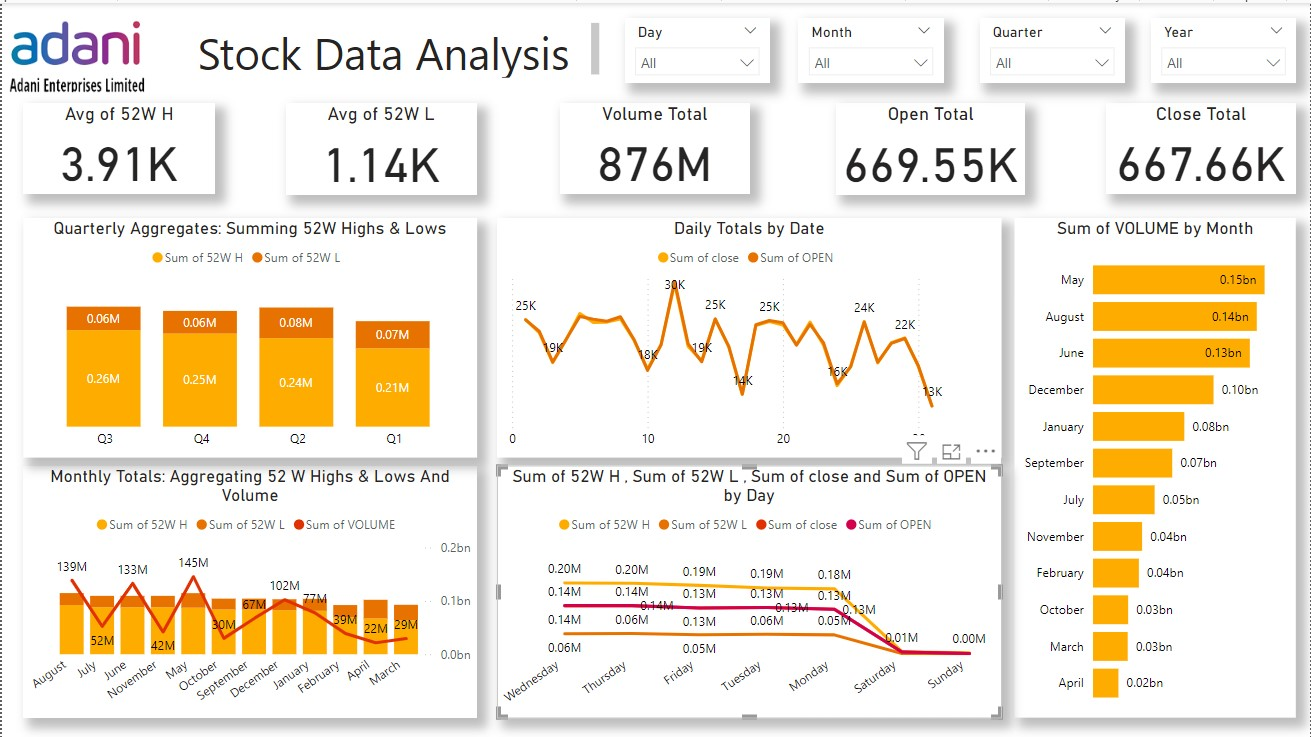

This screenshot's page, from the dashboard's own definition file:
{"tool":"powerbi","page":{"name":"Page 1","canvas":[1280,720],"ordinal":0},"visuals":[{"type":"slicer","fields":{"Values":["ADANI ENTERPRISES LIMITED.Day"]},"box":[608.5,14.8,142.2,63.7],"z":0},{"type":"slicer","fields":{"Values":["ADANI ENTERPRISES LIMITED.Month"]},"box":[779.1,14.8,142.2,63.7],"z":1000},{"type":"slicer","fields":{"Values":["ADANI ENTERPRISES LIMITED.Quarter"]},"box":[956.6,14.8,142.2,63.7],"z":2000},{"type":"slicer","fields":{"Values":["ADANI ENTERPRISES LIMITED.Year"]},"box":[1123.8,14.8,142.2,63.7],"z":3000},{"type":"card","title":"Avg of 52W H","fields":{"Values":["Avg(ADANI ENTERPRISES LIMITED.52W H )"]},"box":[20.5,97.8,187.7,88.7],"z":4000},{"type":"card","title":"Avg of 52W L","fields":{"Values":["Avg(ADANI ENTERPRISES LIMITED.52W L )"]},"box":[277.6,97.8,187.1,89.3],"z":5000},{"type":"card","title":"Close Total","fields":{"Values":["Sum(ADANI ENTERPRISES LIMITED.close )"]},"box":[1079.4,97.8,186.5,88.7],"z":6000},{"type":"card","title":"Open Total","fields":{"Values":["Sum(ADANI ENTERPRISES LIMITED.OPEN )"]},"box":[815.6,97.8,185.9,89.3],"z":7000},{"type":"card","title":"Volume Total","fields":{"Values":["Sum(ADANI ENTERPRISES LIMITED.VOLUME )"]},"box":[544.8,97.8,186.5,88.7],"z":8000},{"type":"columnChart","title":"Quarterly Aggregates: Summing 52W Highs & Lows","fields":{"Y":["Sum(ADANI ENTERPRISES LIMITED.52W H )","Sum(ADANI ENTERPRISES LIMITED.52W L )"],"Category":["ADANI ENTERPRISES LIMITED.Quarter"]},"box":[20.5,210.4,443.6,234.3],"z":9000},{"type":"lineStackedColumnComboChart","title":"Monthly Totals: Aggregating 52 W Highs & Lows And Volume","fields":{"Y":["Sum(ADANI ENTERPRISES LIMITED.52W H )","Sum(ADANI ENTERPRISES LIMITED.52W L )"],"Category":["ADANI ENTERPRISES LIMITED.Month"],"Y2":["Sum(ADANI ENTERPRISES LIMITED.VOLUME )"]},"box":[20.5,452.7,443.6,246.8],"z":10000},{"type":"lineChart","title":"Daily Totals by Date","fields":{"Y":["Sum(ADANI ENTERPRISES LIMITED.close )","Sum(ADANI ENTERPRISES LIMITED.OPEN )"],"Category":["ADANI ENTERPRISES LIMITED.Date .Variation.Date Hierarchy.Day"]},"box":[484.5,210.4,493.6,234.3],"z":11000},{"type":"lineChart","fields":{"Y":["Sum(ADANI ENTERPRISES LIMITED.52W H )","Sum(ADANI ENTERPRISES LIMITED.52W L )","Sum(ADANI ENTERPRISES LIMITED.close )","Sum(ADANI ENTERPRISES LIMITED.OPEN )"],"Category":["ADANI ENTERPRISES LIMITED.Day"]},"box":[484.5,452.7,493.6,246.8],"z":12000},{"type":"clusteredBarChart","fields":{"Category":["ADANI ENTERPRISES LIMITED.Month"],"Y":["Sum(ADANI ENTERPRISES LIMITED.VOLUME )"]},"box":[990.7,210.4,275.3,489.1],"z":13000},{"type":"image","box":[0,0,147.9,92.1],"z":14000},{"type":"textbox","box":[164.9,14.8,424.3,63.7],"z":15000}]}

Visuals, with their boxes in screenshot pixels (x1, y1, x2, y2), scaled from the page's 1280x720 canvas onto the 1311x737 screenshot:
slicer - ADANI ENTERPRISES LIMITED.Day: x1=623 y1=15 x2=769 y2=80
slicer - ADANI ENTERPRISES LIMITED.Month: x1=798 y1=15 x2=944 y2=80
slicer - ADANI ENTERPRISES LIMITED.Quarter: x1=980 y1=15 x2=1125 y2=80
slicer - ADANI ENTERPRISES LIMITED.Year: x1=1151 y1=15 x2=1297 y2=80
"Avg of 52W H" card: x1=21 y1=100 x2=213 y2=191
"Avg of 52W L" card: x1=284 y1=100 x2=476 y2=192
"Close Total" card: x1=1106 y1=100 x2=1297 y2=191
"Open Total" card: x1=835 y1=100 x2=1026 y2=192
"Volume Total" card: x1=558 y1=100 x2=749 y2=191
"Quarterly Aggregates: Summing 52W Highs & Lows" columnChart: x1=21 y1=215 x2=475 y2=455
"Monthly Totals: Aggregating 52 W Highs & Lows And Volume" lineStackedColumnComboChart: x1=21 y1=463 x2=475 y2=716
"Daily Totals by Date" lineChart: x1=496 y1=215 x2=1002 y2=455
lineChart - Sum(ADANI ENTERPRISES LIMITED.52W H ) x Sum(ADANI ENTERPRISES LIMITED.52W L ): x1=496 y1=463 x2=1002 y2=716
clusteredBarChart - ADANI ENTERPRISES LIMITED.Month x Sum(ADANI ENTERPRISES LIMITED.VOLUME ): x1=1015 y1=215 x2=1297 y2=716
image: x1=0 y1=0 x2=151 y2=94
textbox: x1=169 y1=15 x2=603 y2=80
